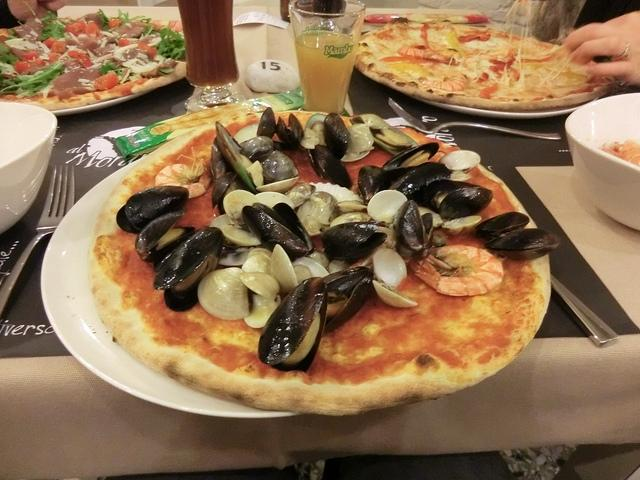tomato: (93, 72, 119, 91), (67, 50, 91, 68), (134, 42, 158, 58), (458, 30, 490, 42), (64, 20, 86, 37), (85, 22, 101, 38), (14, 61, 33, 74), (22, 49, 40, 62), (50, 41, 66, 54), (118, 38, 134, 48), (109, 18, 122, 29), (43, 37, 55, 48), (0, 29, 9, 42), (174, 21, 182, 33), (33, 59, 46, 66), (2, 73, 15, 80)
